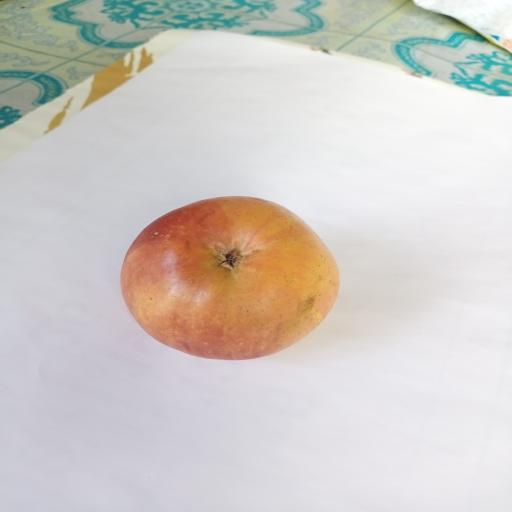apple-ripe: (114, 188, 344, 369)
